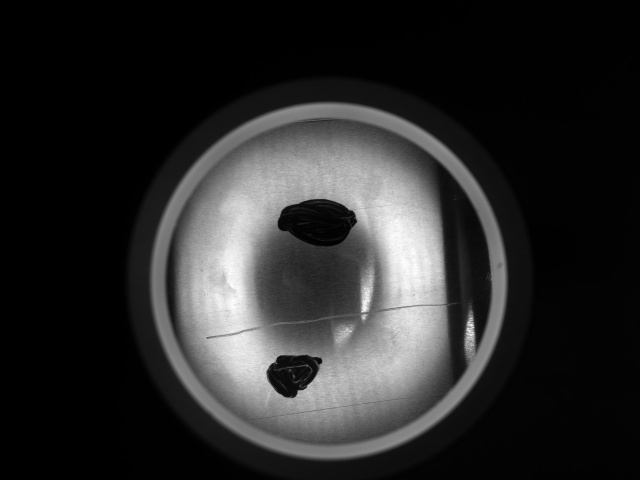ca_shang: (203, 299, 472, 340), (245, 389, 455, 418)
zang_wu: (277, 198, 358, 249), (264, 353, 325, 401)
